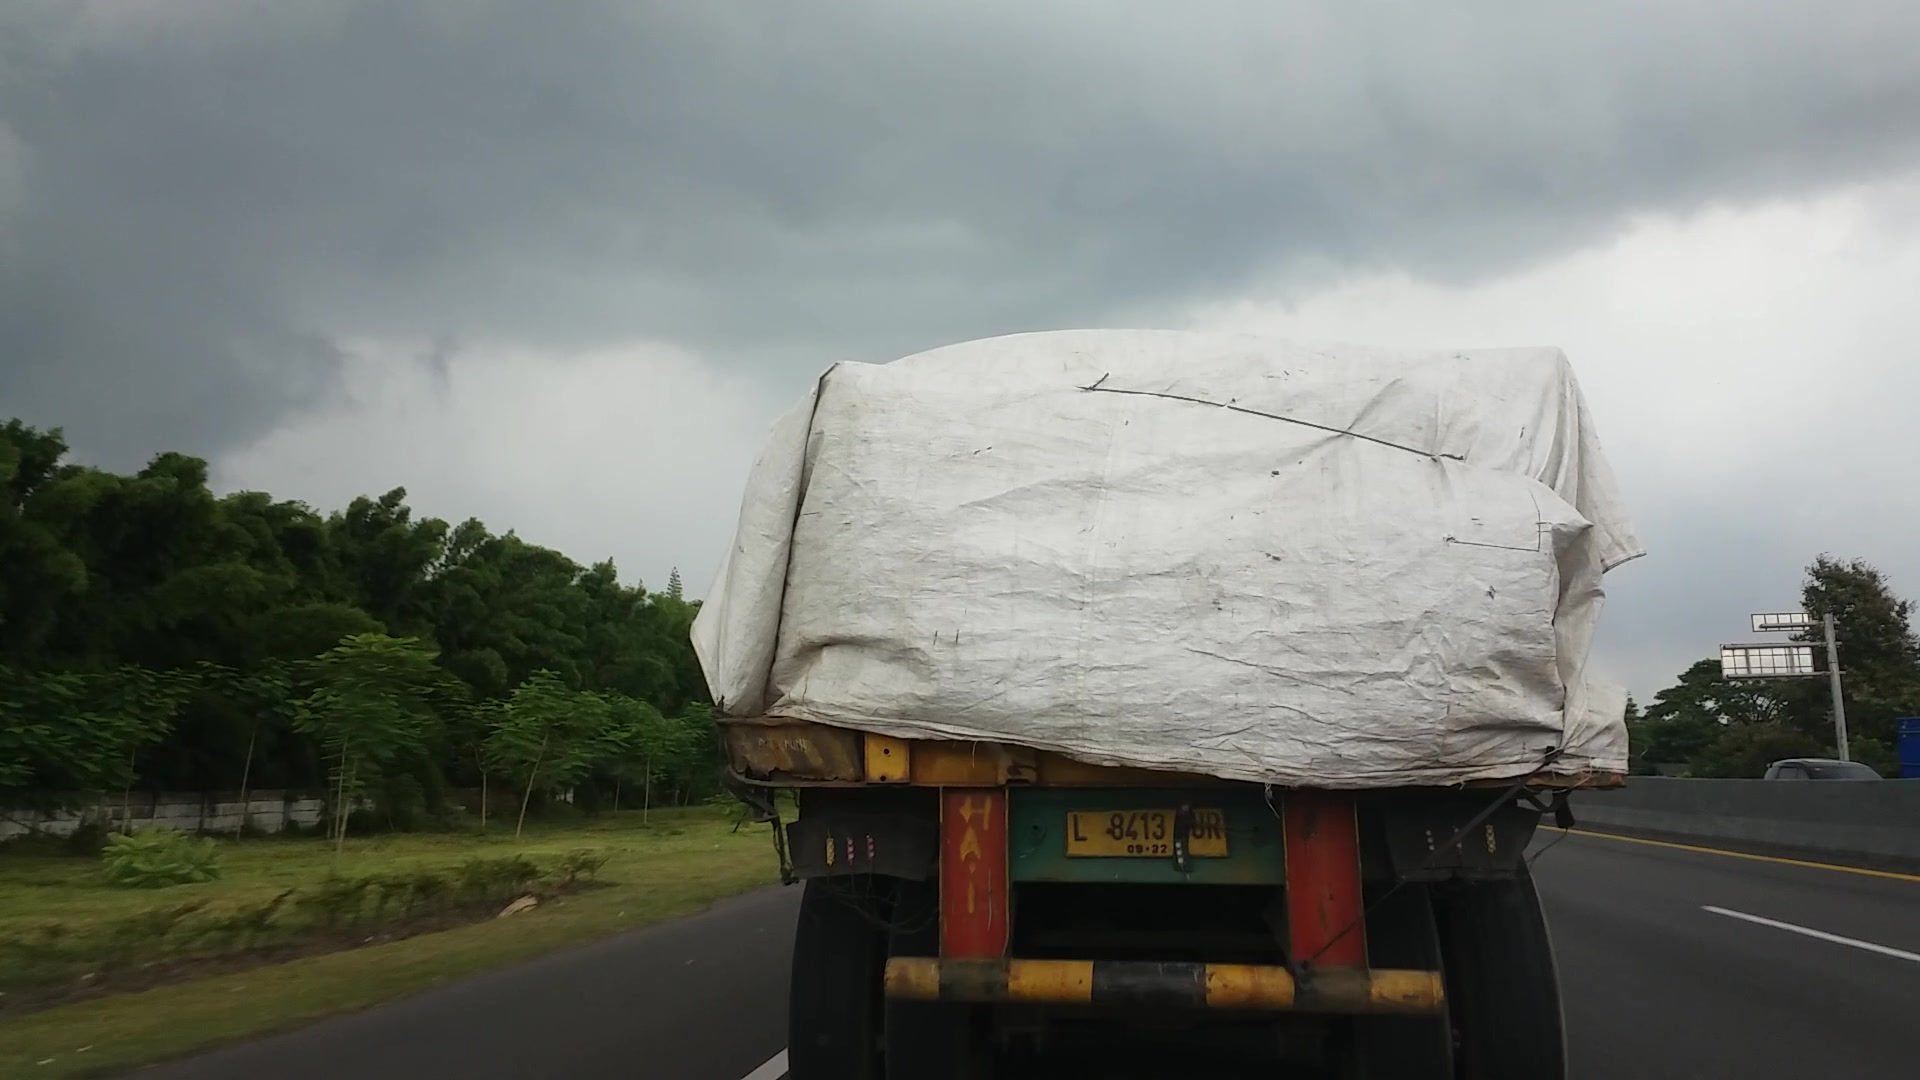plate_positive: (1065, 808, 1228, 858)
